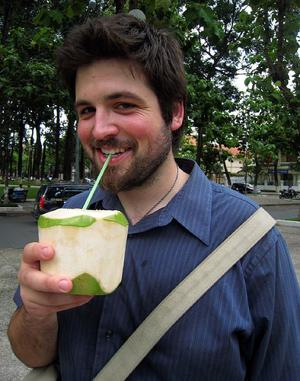person: (7, 13, 298, 381)
